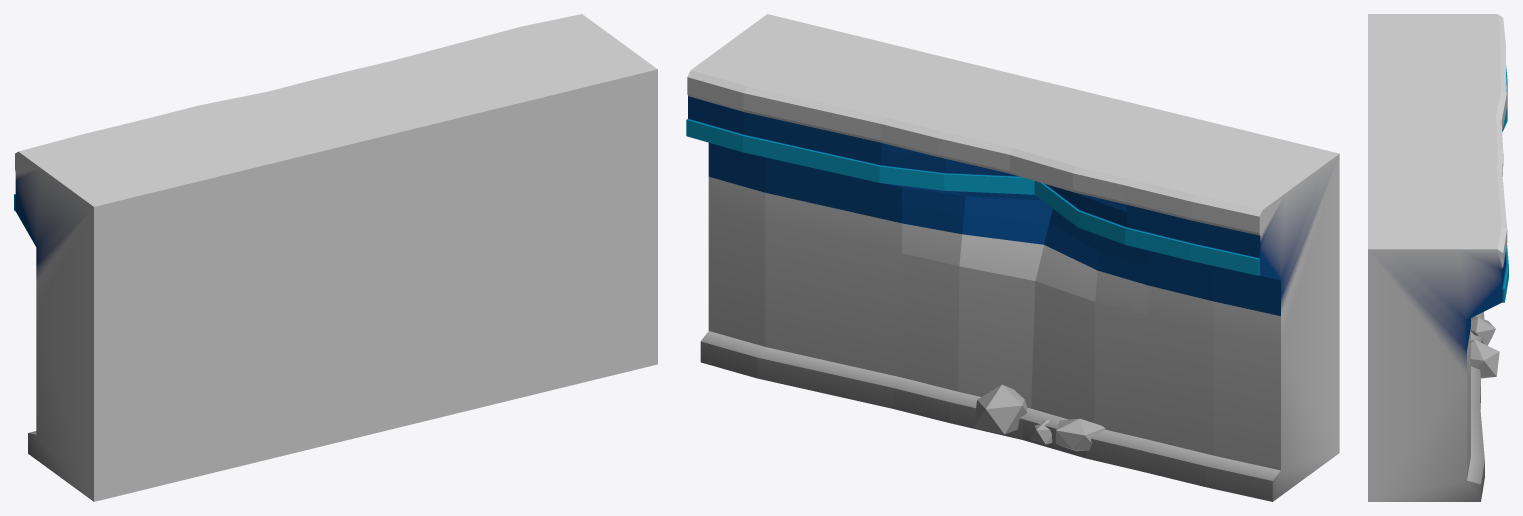
Rendered from NeonCityV5_Edge2_V6.fbx.
The picture shows the model from 3 angles, left to right: view 1: azimuth 30°, elevation 25°; view 2: azimuth 150°, elevation 25°; view 3: azimuth 270°, elevation 25°; orthographic projection. The views are drawn at different scales.
Visible parts, largest first — view 1: NeonCityV5_Edge2_V6; view 2: NeonCityV5_Edge2_V6; view 3: NeonCityV5_Edge2_V6.
Part boxes in pixels (x1=…): NeonCityV5_Edge2_V6: x1=14, y1=14, x2=657, y2=501; NeonCityV5_Edge2_V6: x1=686, y1=14, x2=1339, y2=501; NeonCityV5_Edge2_V6: x1=1368, y1=14, x2=1508, y2=501.
Size of the model in its own units: 2 by 1 by 0.5052.
